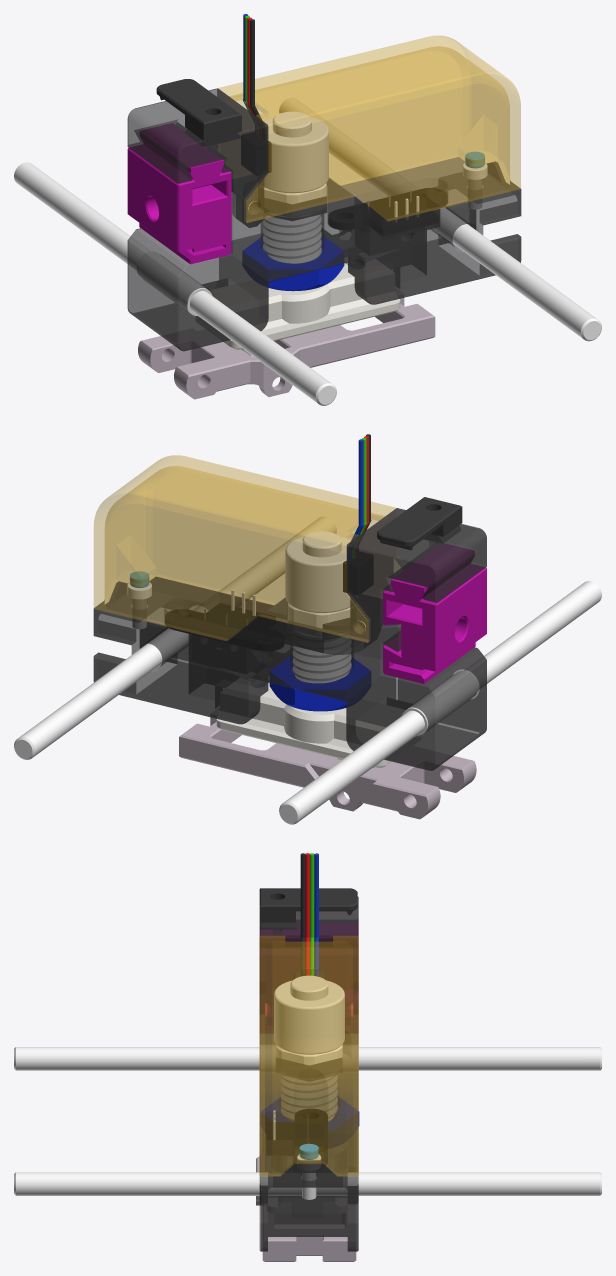
3 renders of one model, top to bottom at view 1: azimuth 30°, elevation 25°; view 2: azimuth 150°, elevation 25°; view 3: azimuth 270°, elevation 25°, orthographic. The views are drawn at different scales.
Visible parts, largest first — view 1: SOLID (×18); view 2: SOLID (×19); view 3: SOLID (×16).
Part boxes in pixels (left/top/right/bottom): SOLID (×18): left=14, top=35, right=601, bottom=405; SOLID (×19): left=14, top=439, right=601, bottom=824; SOLID (×16): left=14, top=888, right=601, bottom=1261.
Bounding box in the file's own units: 0.0811 × 0.0805 × 0.124.
